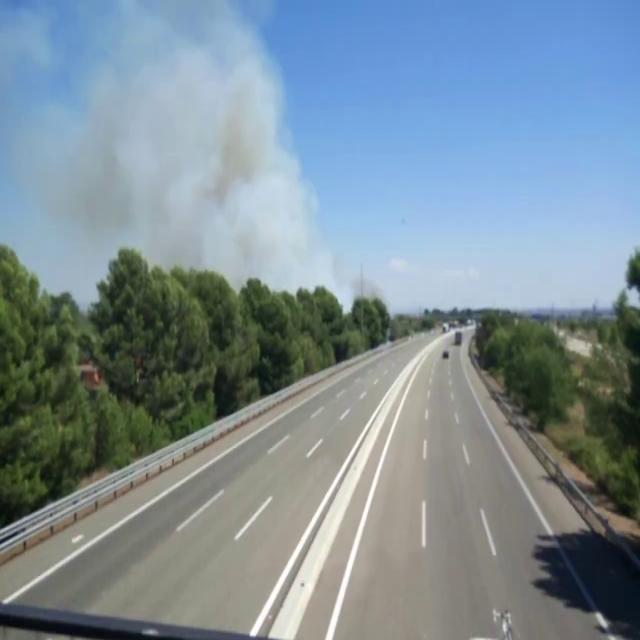Smoke: (63, 2, 323, 302)
